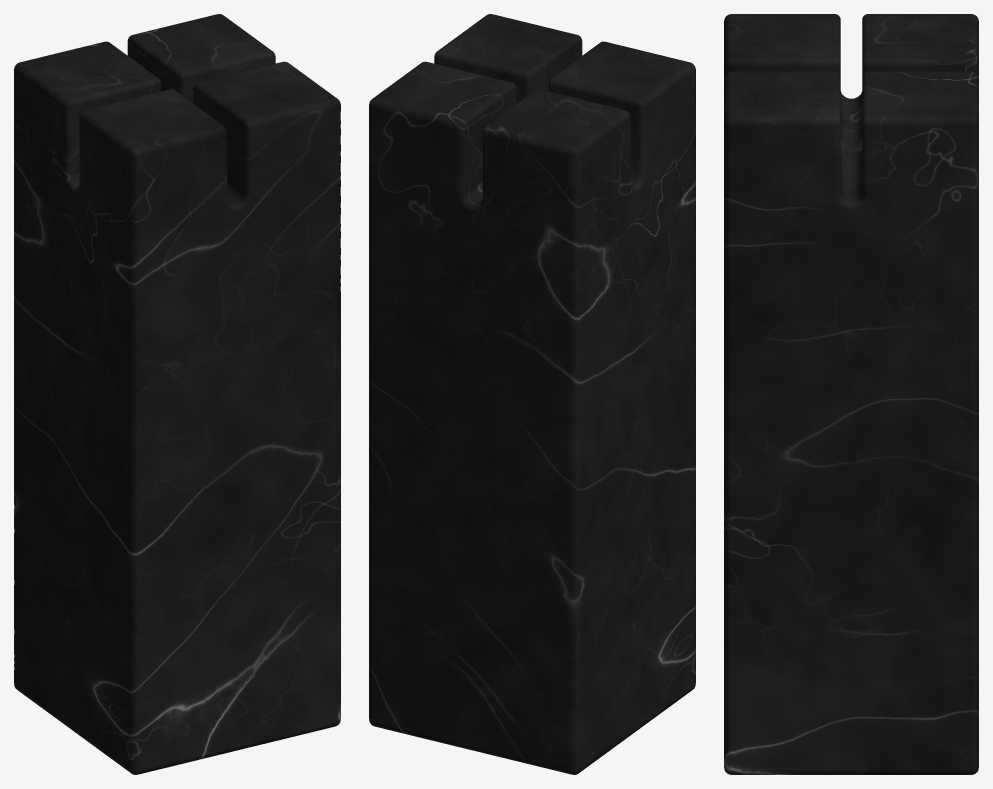
File: rook-black-hd.glb
The picture shows the model from 3 angles, left to right: view 1: azimuth 30°, elevation 25°; view 2: azimuth 150°, elevation 25°; view 3: azimuth 270°, elevation 25°; orthographic projection. The views are drawn at different scales.
Visible parts, largest first — view 1: vez_cerny; view 2: vez_cerny; view 3: vez_cerny.
Boxes of the visible parts, left/top/right/bottom form: vez_cerny: left=14, top=14, right=340, bottom=774; vez_cerny: left=369, top=14, right=695, bottom=774; vez_cerny: left=724, top=14, right=978, bottom=774.
Bounding box in the file's own units: 0.4281 × 1.22 × 0.4281.
1 material, 1 textured.
